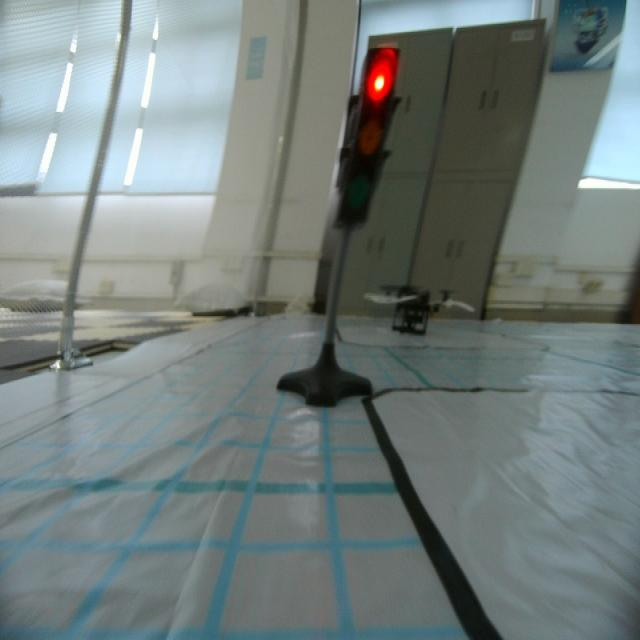red: (343, 40, 399, 227)
